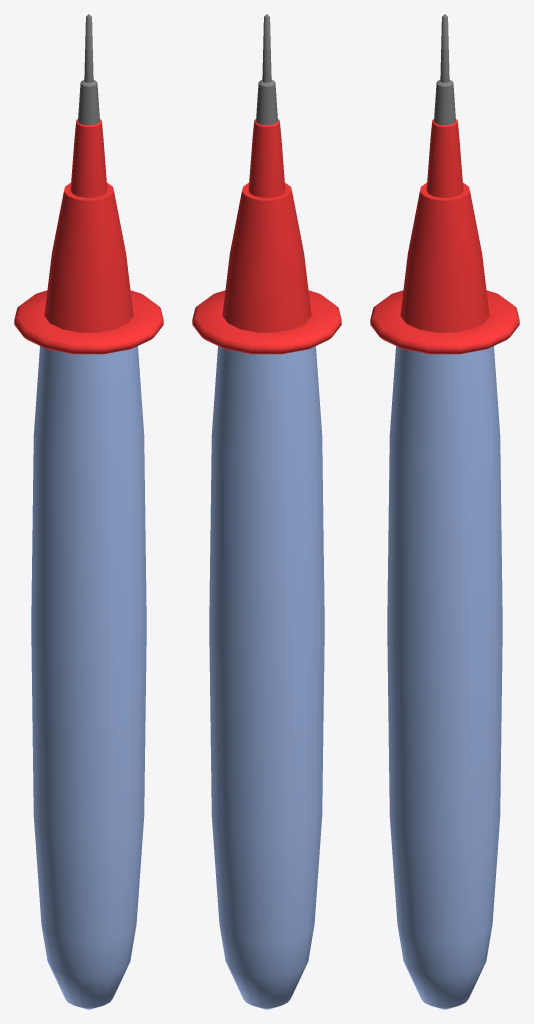
The model's file is digital_megohm_meter_t1.fbx.
3 views of the same model, side by side, from view 1: azimuth 30°, elevation 25°; view 2: azimuth 150°, elevation 25°; view 3: azimuth 270°, elevation 25° (orthographic).
Parts seen in each view (by area): view 1: digital_megohm_meter_t1; view 2: digital_megohm_meter_t1; view 3: digital_megohm_meter_t1.
Part boxes in pixels (x1=…): digital_megohm_meter_t1: x1=14, y1=14, x2=163, y2=1009; digital_megohm_meter_t1: x1=192, y1=14, x2=341, y2=1009; digital_megohm_meter_t1: x1=370, y1=14, x2=519, y2=1009.
Size of the model in its own units: 2.76 by 20.41 by 2.78.
